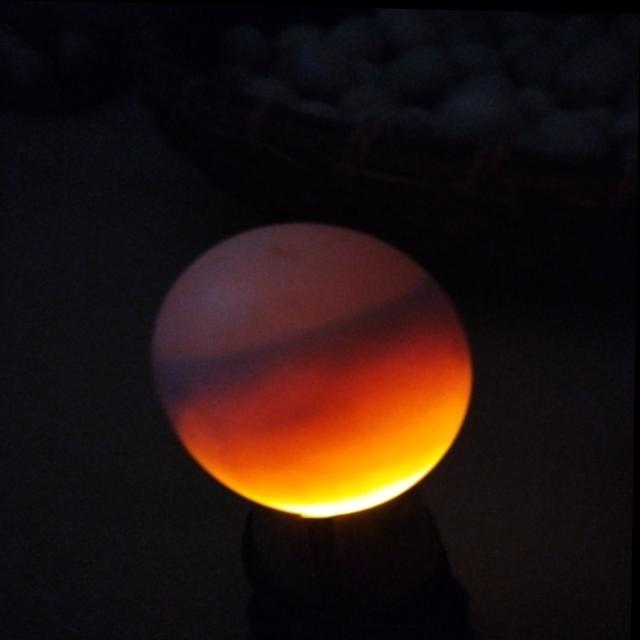Area Infectada: (150, 277, 462, 428)
